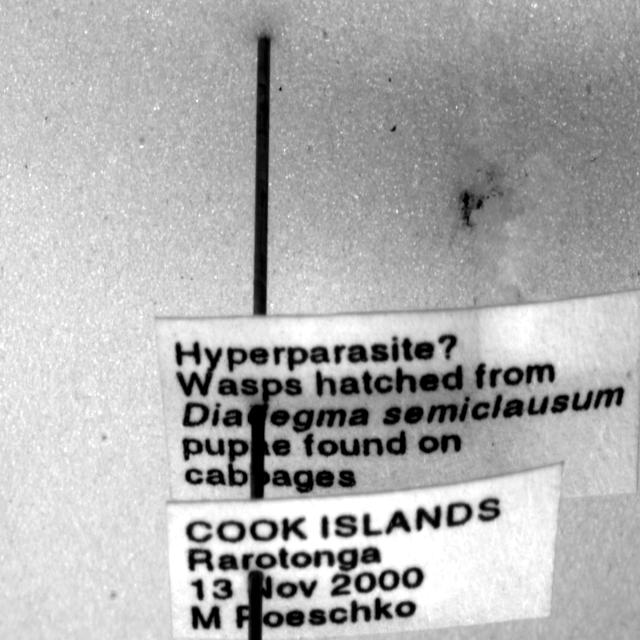typed_label: (156, 291, 640, 501), (168, 463, 562, 639)
